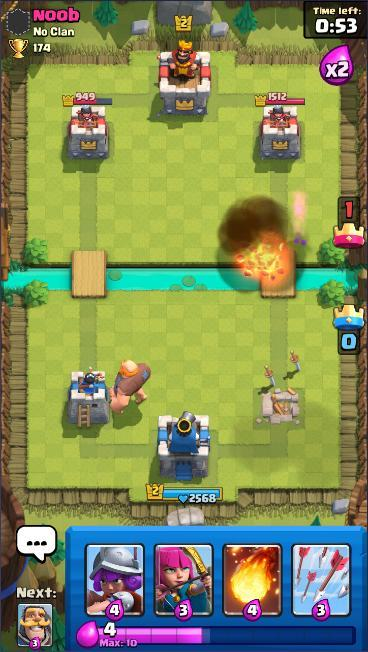ally_giant: (108, 357, 154, 414)
